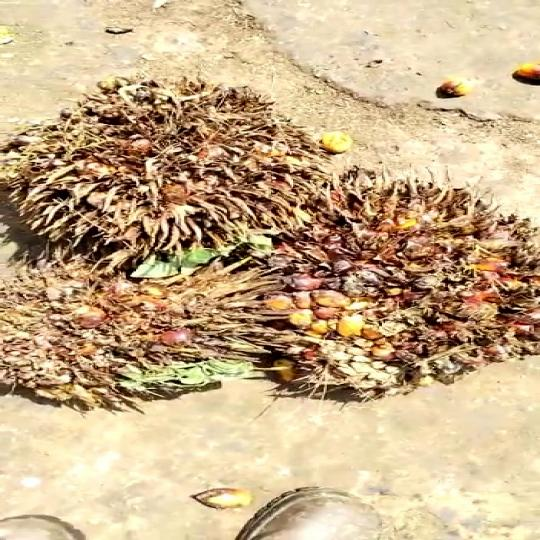terlalu masak: (216, 174, 533, 400), (0, 77, 331, 270), (0, 256, 296, 387)
